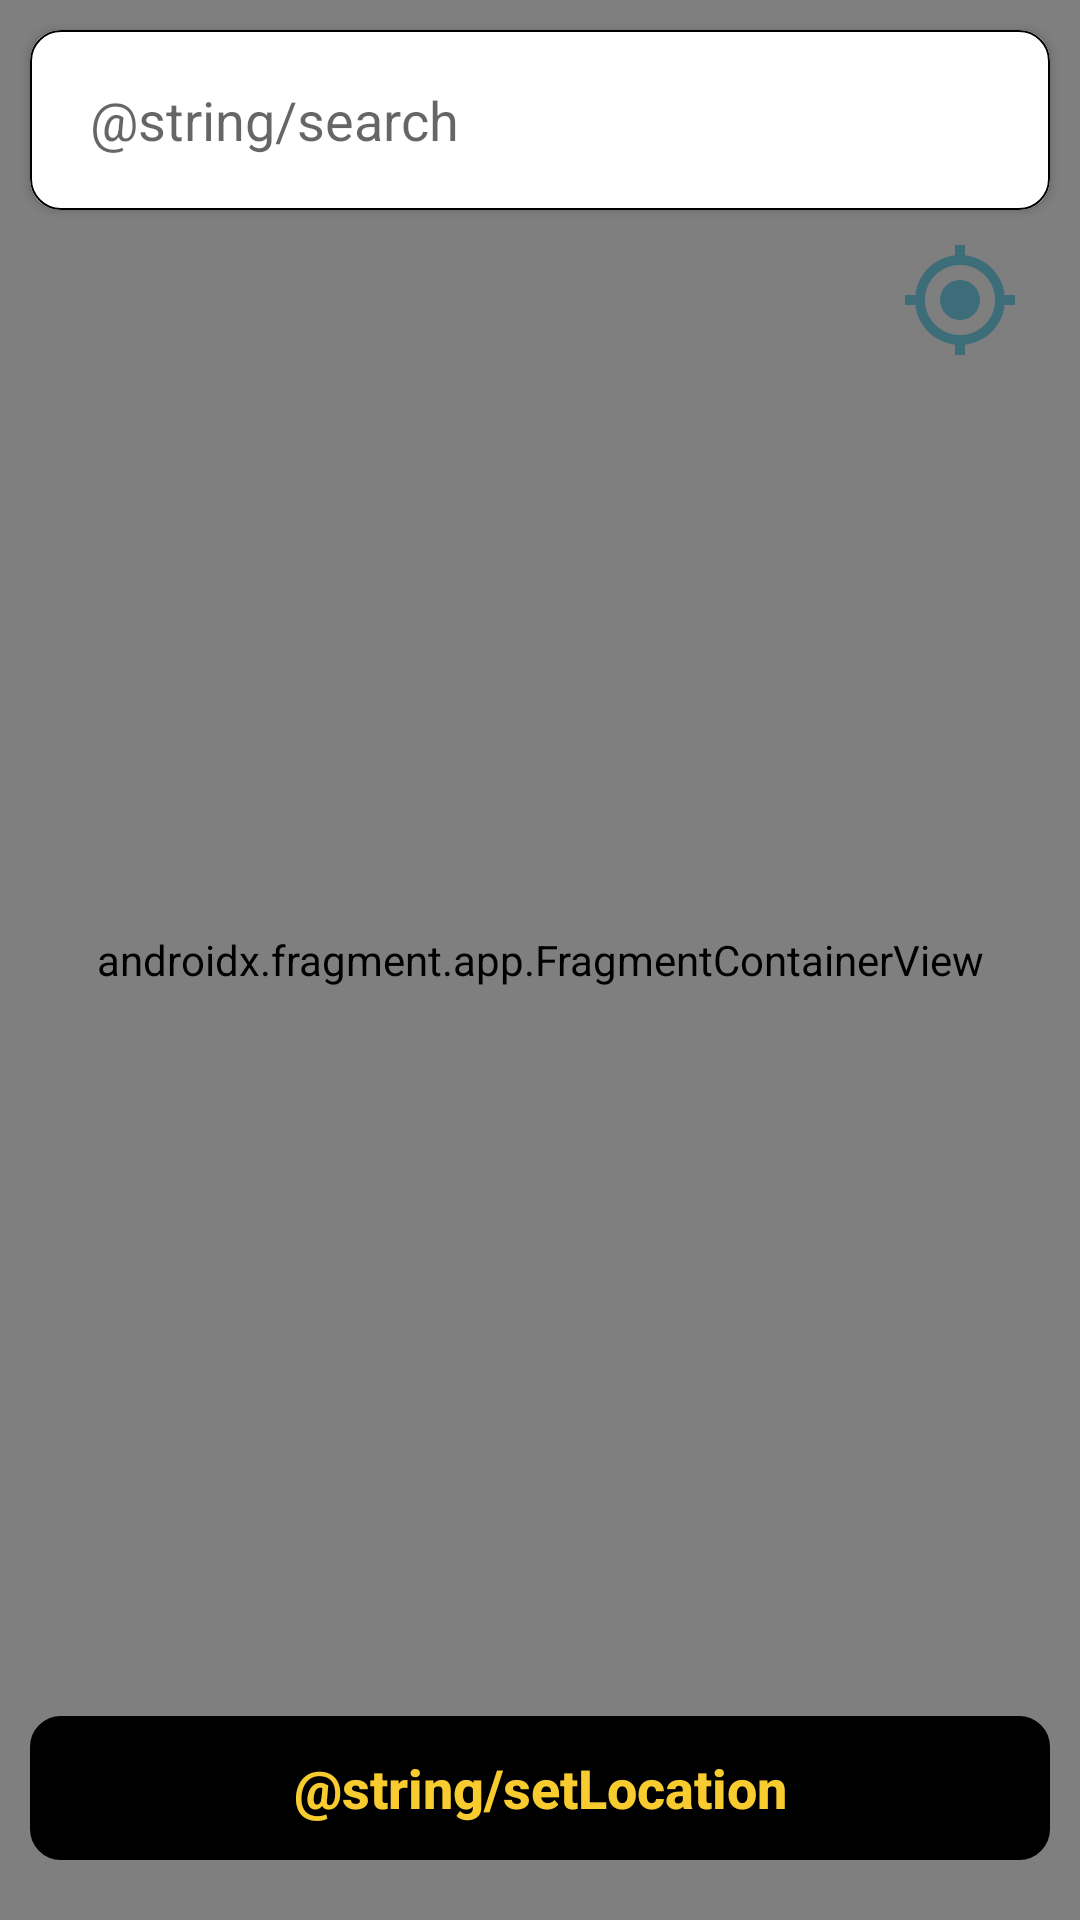

Where icons sit on this 1080px x 1920px app screen, as (x1,y1,x2,y2):
gps fixed: (905,245,1015,355)
